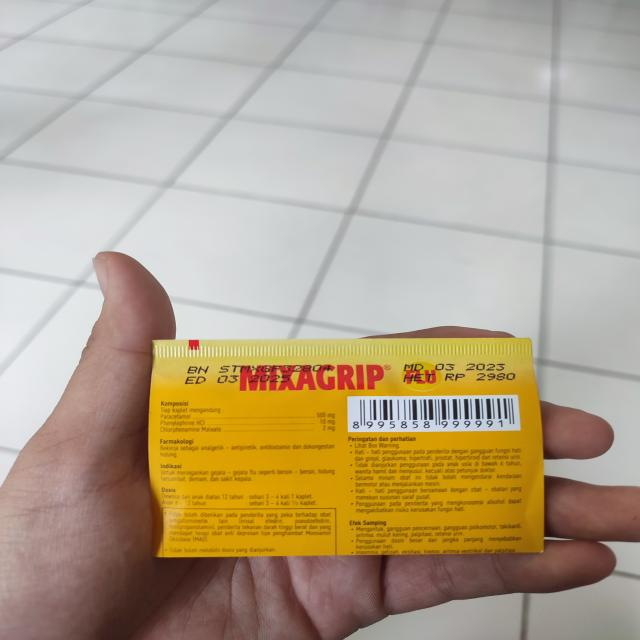B3: (152, 338, 546, 555)
